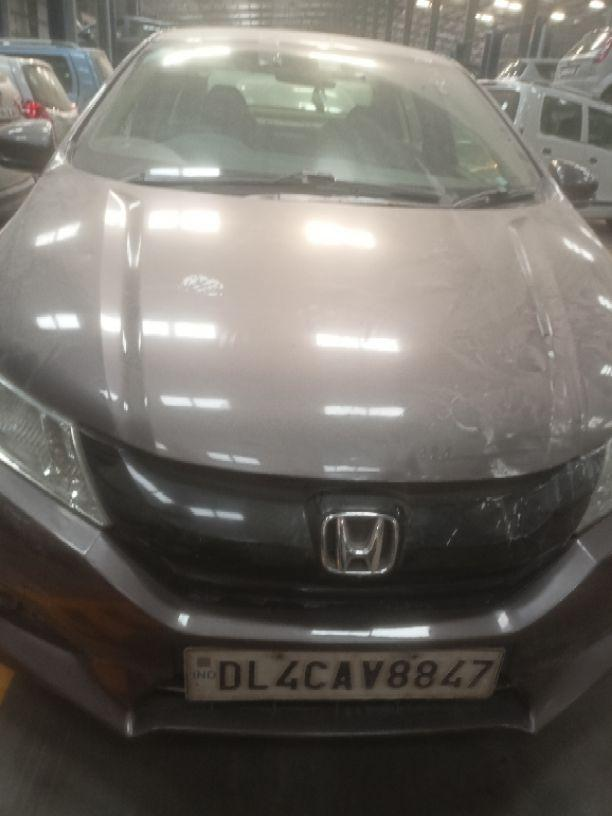license_plate: (181, 644, 506, 704)
